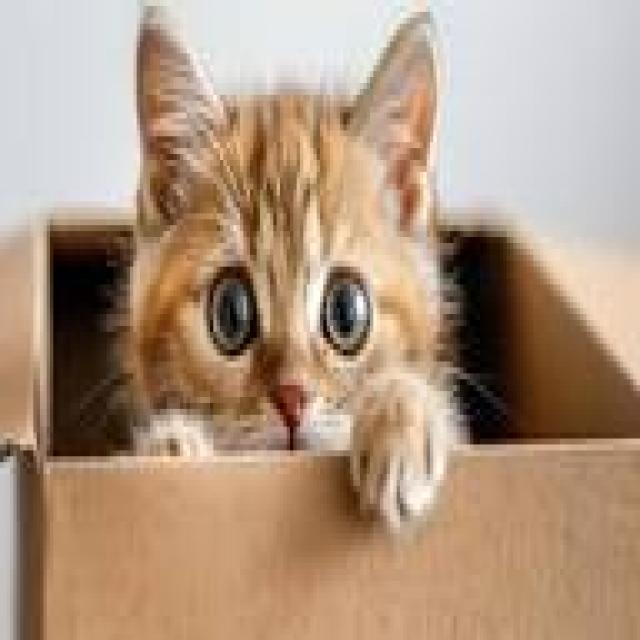box: (32, 212, 640, 638)
